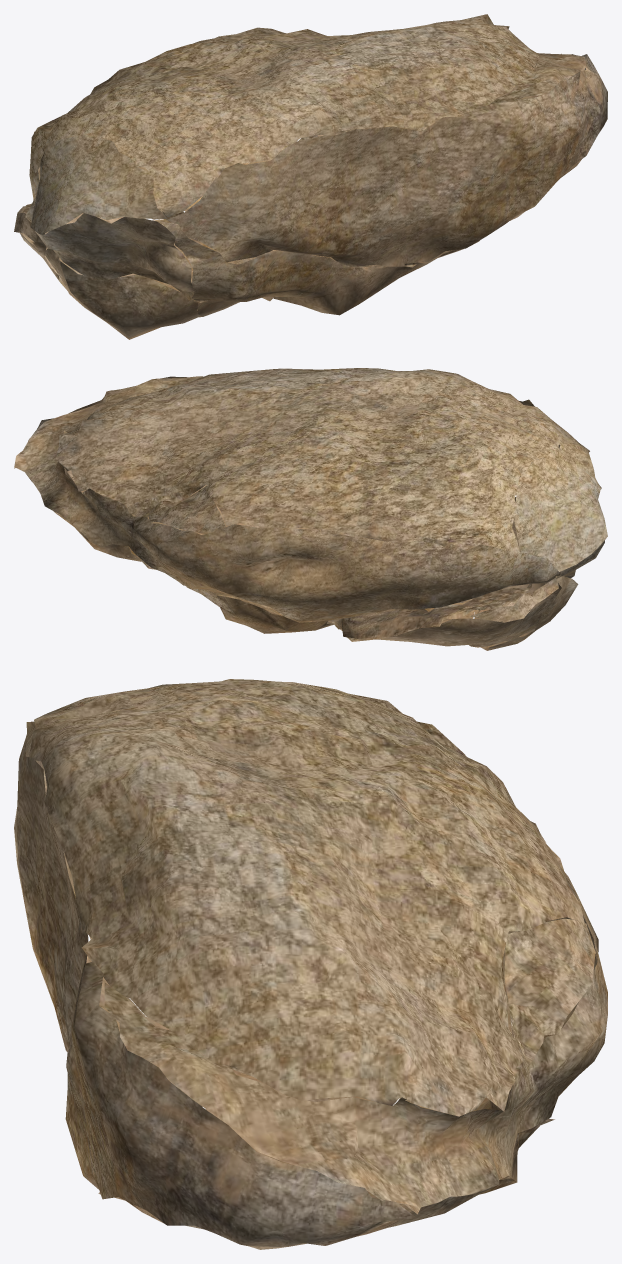
The model's file is namaqualand_boulder_05.glb.
3 renders of one model, top to bottom at view 1: azimuth 30°, elevation 25°; view 2: azimuth 150°, elevation 25°; view 3: azimuth 270°, elevation 25°, orthographic. The views are drawn at different scales.
Visible parts, largest first — view 1: lod0; view 2: lod0; view 3: lod0.
Part boxes in pixels (x1,y1,x2,y2): lod0: (14, 14, 607, 339); lod0: (14, 368, 607, 650); lod0: (14, 679, 607, 1249).
Size of what is drawn, in the model's own units: 1.36 by 0.5261 by 0.7392.
Materials: 1 (1 with a texture image).
